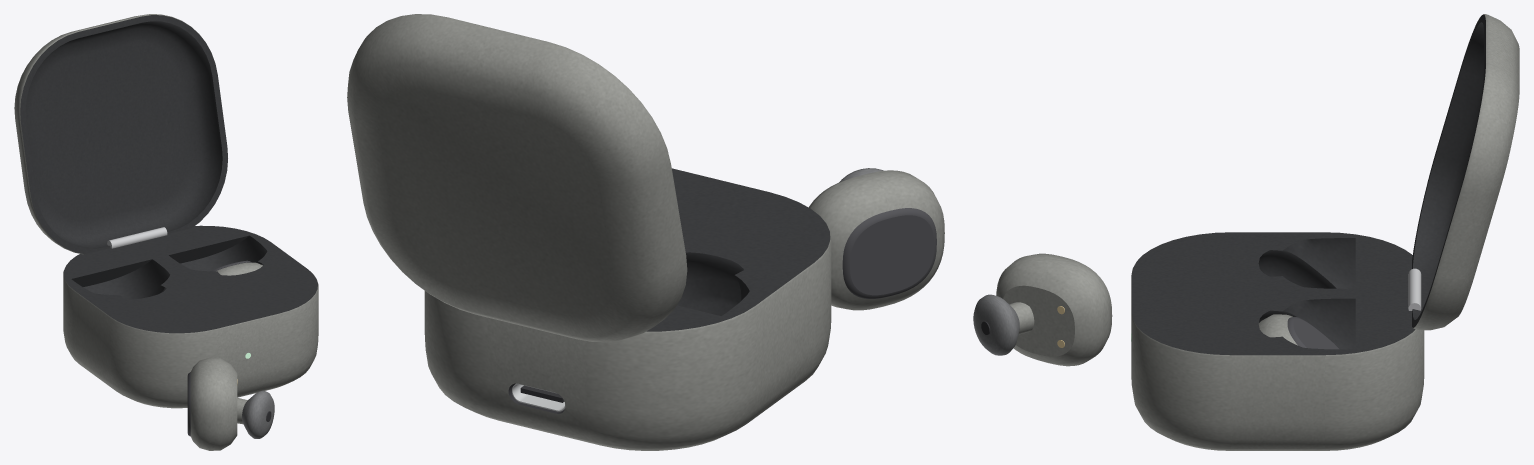
Rendered from wireless-earbuds-with-case.glb.
3 renders of one model, left to right at view 1: azimuth 30°, elevation 25°; view 2: azimuth 150°, elevation 25°; view 3: azimuth 270°, elevation 25°, orthographic. The views are drawn at different scales.
Visible parts, largest first — view 1: Case lid, Case base, Earbud (loose) shell, Earbud (loose) nozzle and ear tip, Hinge pin, Earbud (docked) shell; view 2: Case lid, Case base, Earbud (loose) shell, Earbud (loose) touch pad, USB-C receptacle; view 3: Case base, Case lid, Earbud (loose) shell, Earbud (loose) nozzle and ear tip, Earbud (docked) touch pad, Earbud (docked) shell, Hinge pin.
Boxes of the visible parts, x1,y1,x2,y2 form: Case lid: (14, 14, 227, 254); Case base: (63, 225, 318, 408); Earbud (loose) shell: (190, 357, 237, 450); Earbud (loose) nozzle and ear tip: (237, 390, 274, 438); Hinge pin: (107, 227, 167, 248); Earbud (docked) shell: (216, 262, 262, 275); Case lid: (347, 14, 687, 342); Case base: (424, 168, 831, 450); Earbud (loose) shell: (809, 170, 944, 310); Earbud (loose) touch pad: (842, 208, 936, 298); USB-C receptacle: (512, 383, 565, 411); Case base: (1131, 232, 1424, 450); Case lid: (1412, 14, 1519, 330); Earbud (loose) shell: (996, 253, 1112, 366); Earbud (loose) nozzle and ear tip: (973, 294, 1034, 355); Earbud (docked) touch pad: (1287, 317, 1339, 349); Earbud (docked) shell: (1258, 314, 1297, 345); Hinge pin: (1408, 268, 1421, 310).
Bounding box in the file's own units: 0.0501 × 0.0677 × 0.0937.
Materials: 9 (9 with a texture image).
